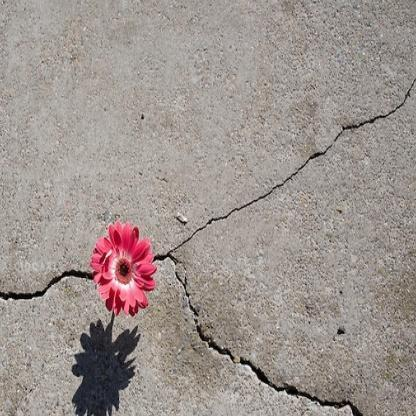Cracks: (148, 62, 416, 416), (0, 265, 100, 307)
